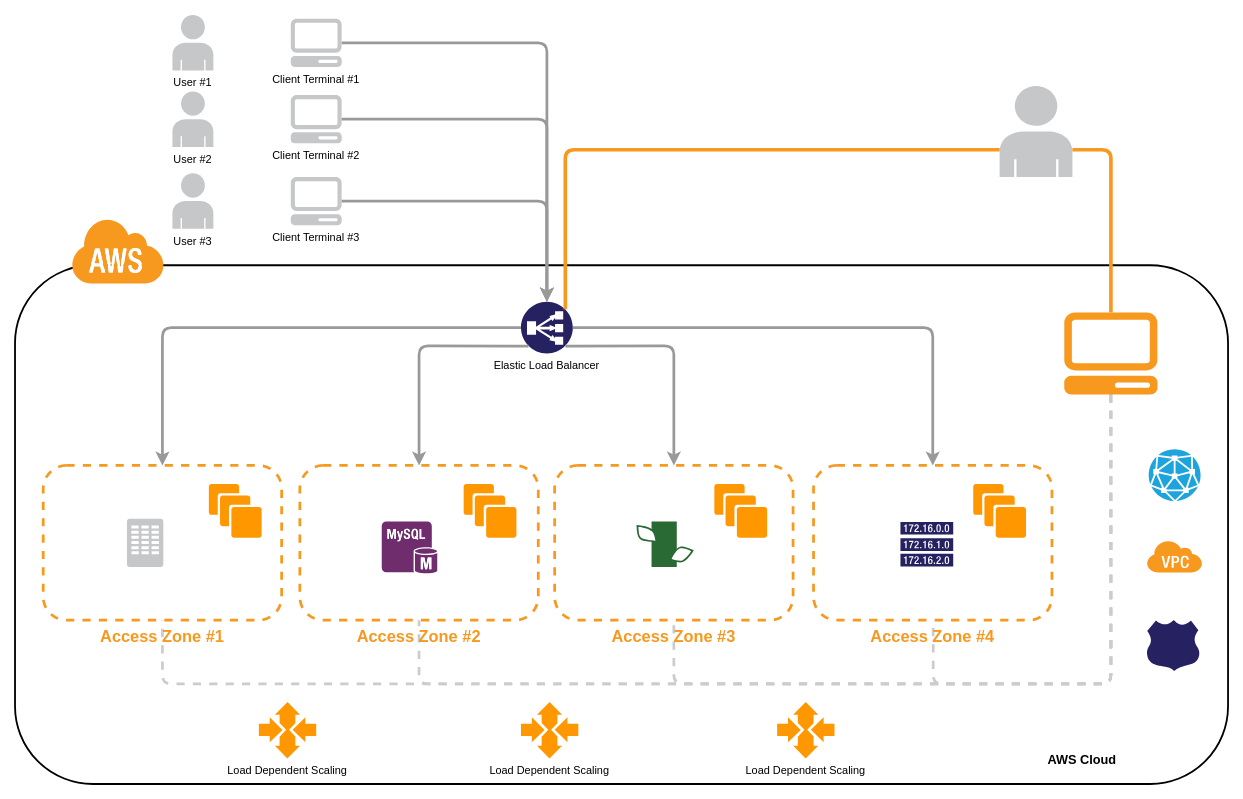
Image size: 1243x799. Some labels were removed from this diagram. The shapes that lost their labels are listed below. From the top down, each one's centre as x and y in pixels, then its label:
point 1035,131: AWS Administrator
point 1110,353: AWS Server
point 1174,475: Global DNS
point 1174,556: Security
point 1173,645: Access Control
